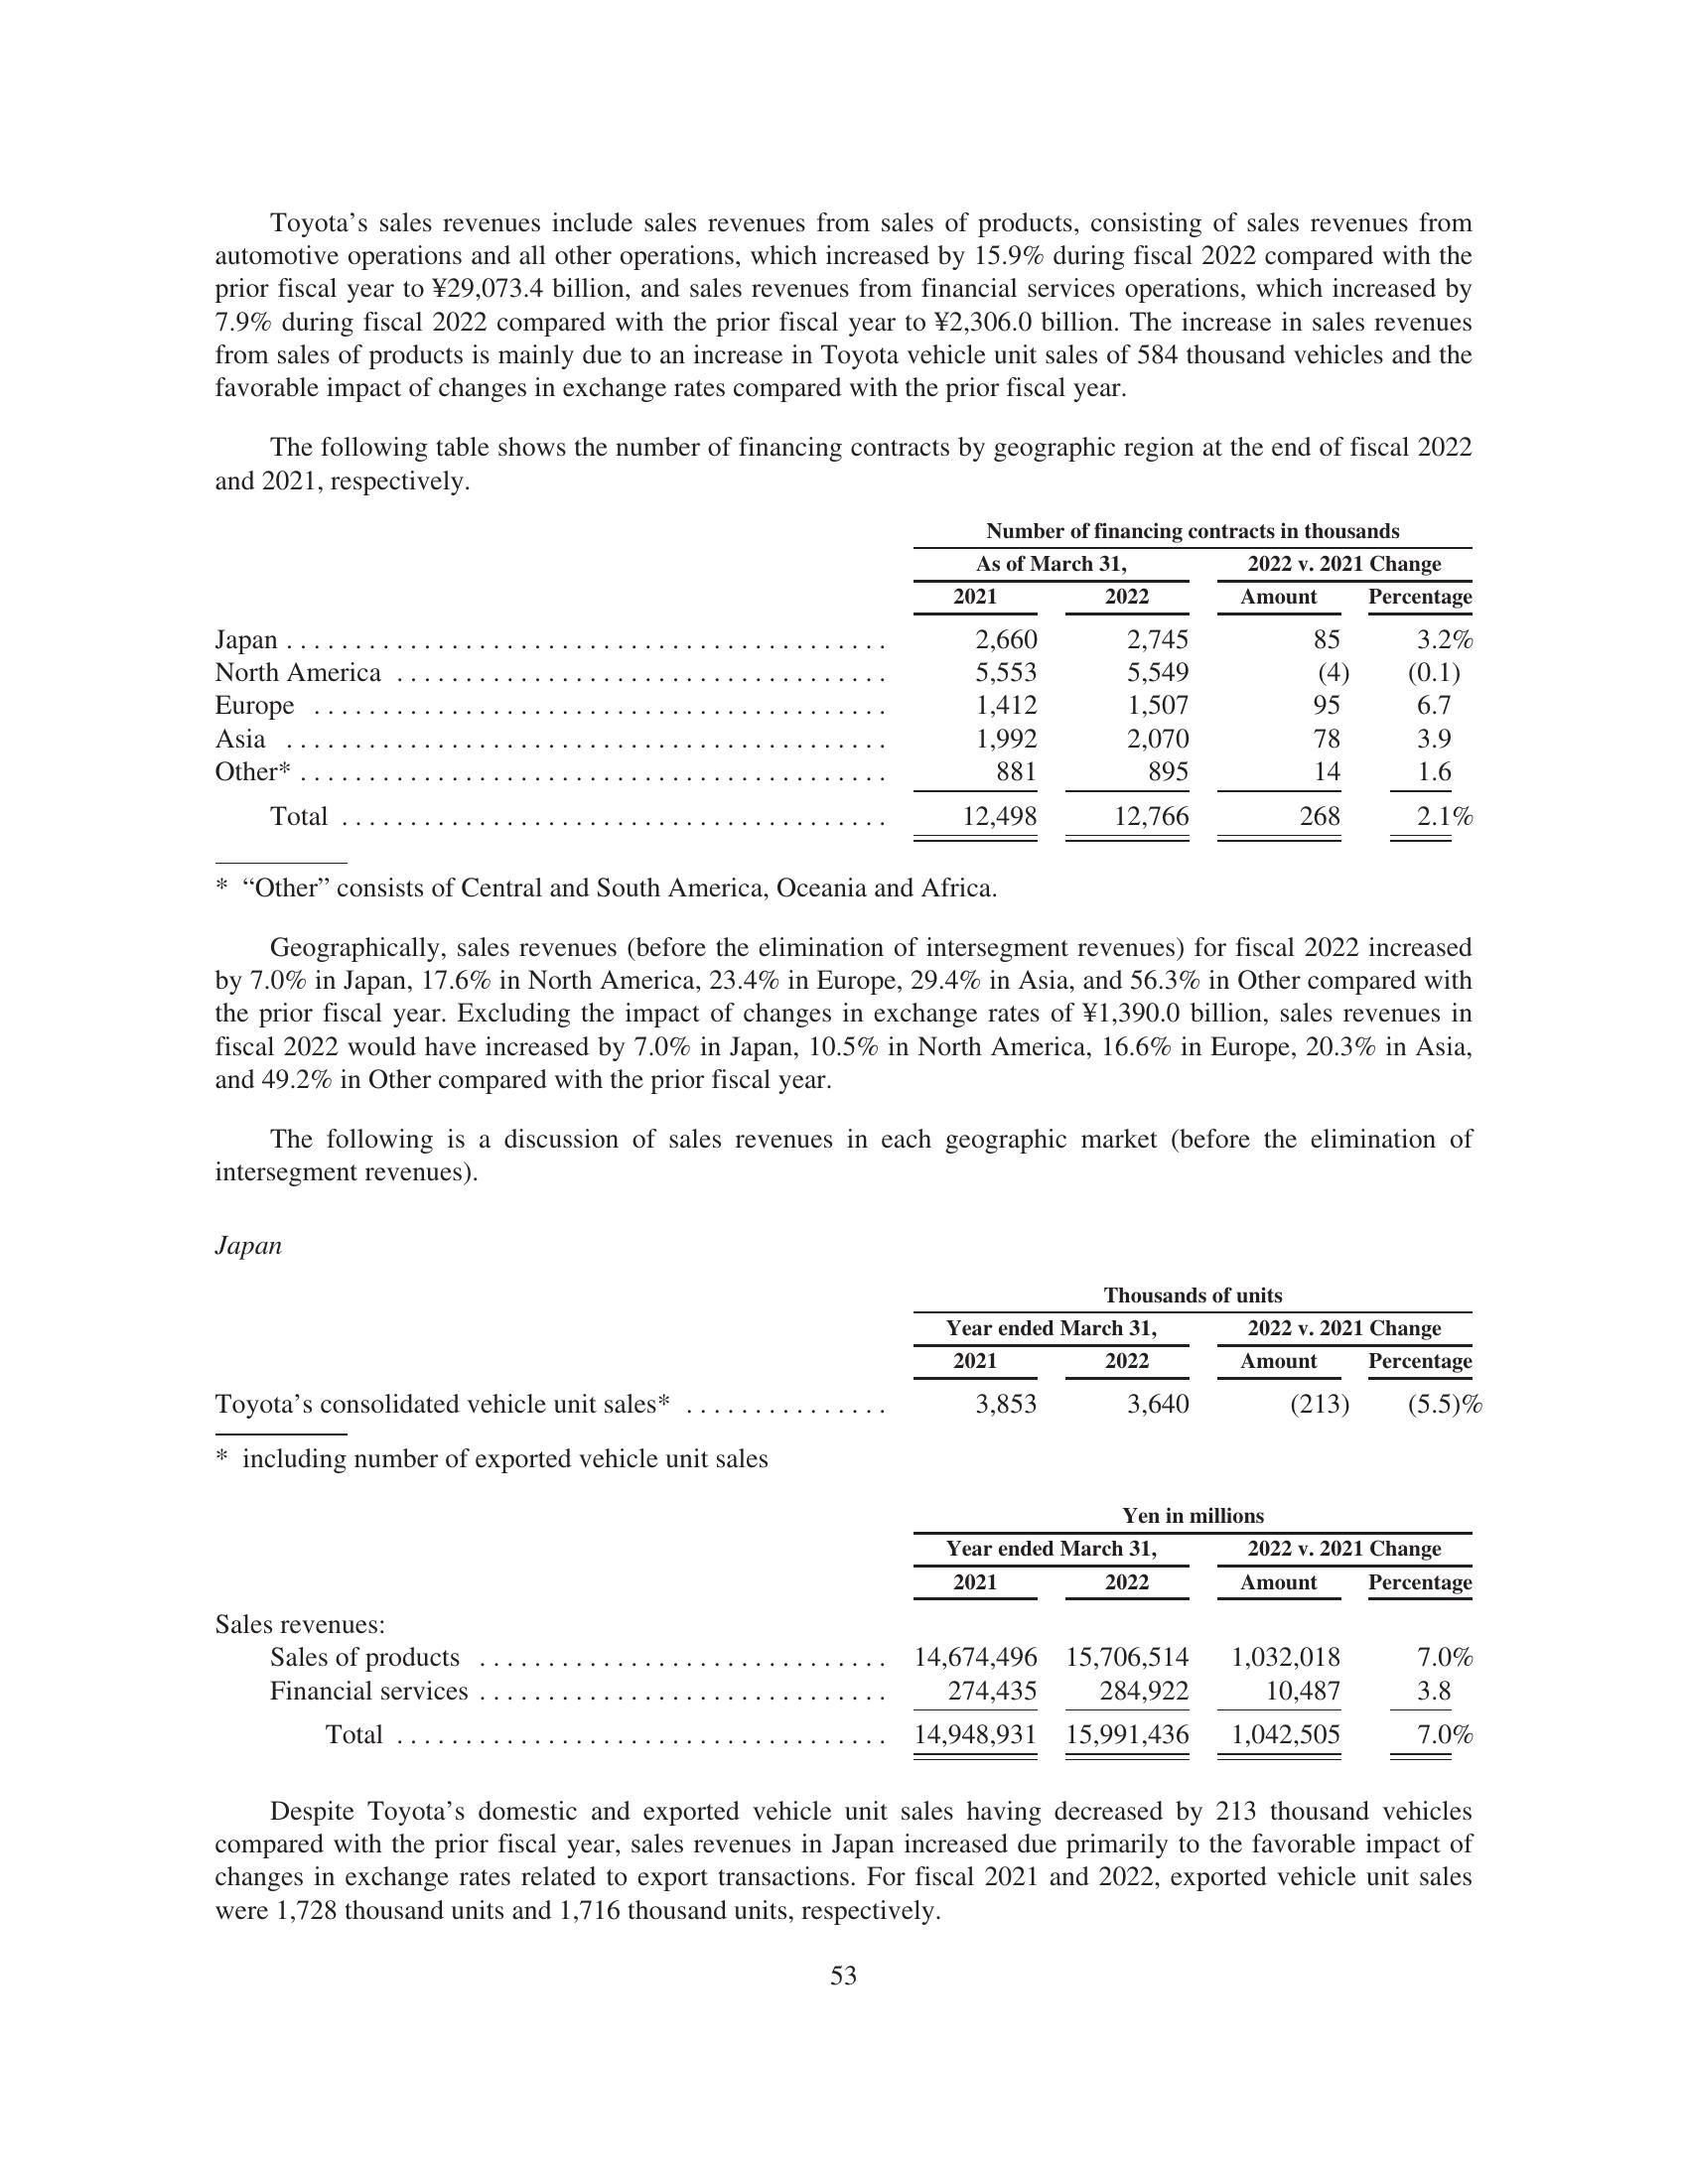Footer: (0, 1946, 1688, 2184)
Header: (0, 0, 1688, 188)
Table: (151, 482, 1528, 851), (145, 1494, 1546, 1771), (151, 1264, 1551, 1477)
